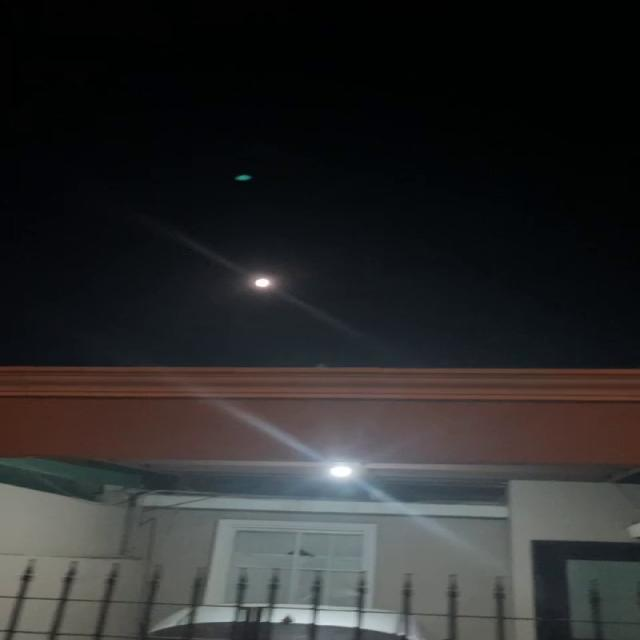moon: (249, 268, 281, 296)
